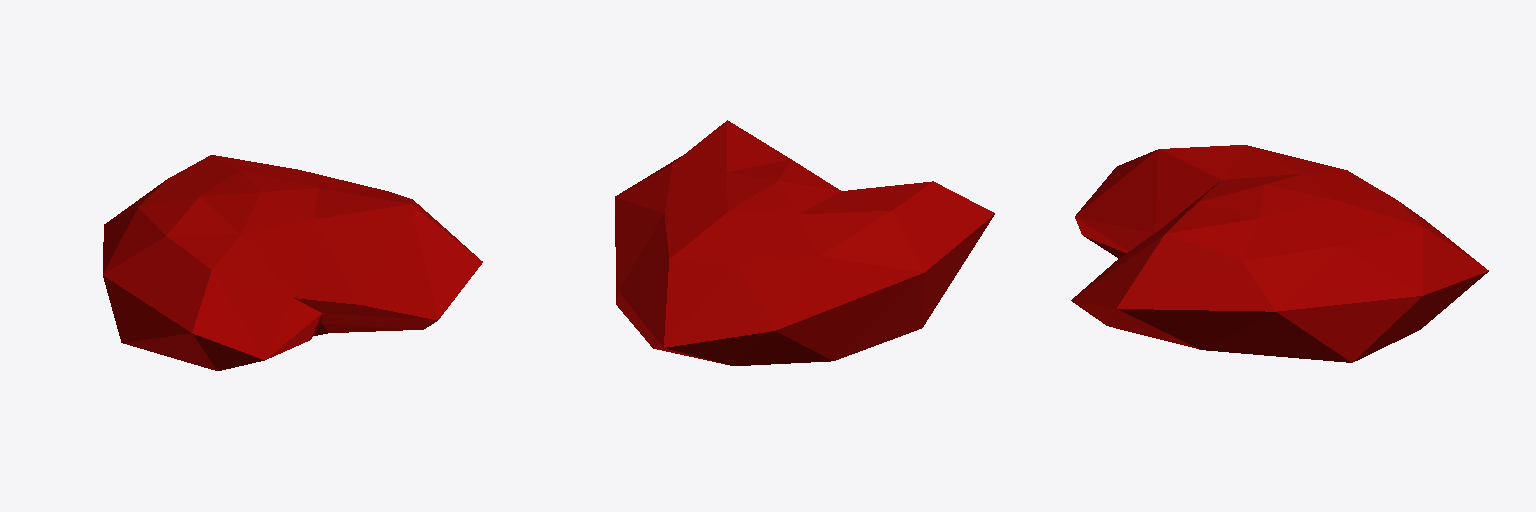
Rendered from heart.obj.
The picture shows the model from 3 angles: view 1: azimuth 30°, elevation 25°; view 2: azimuth 150°, elevation 25°; view 3: azimuth 270°, elevation 25°; orthographic projection.
Parts seen in each view (by area): view 1: Icosphere_Icosphere.001; view 2: Icosphere_Icosphere.001; view 3: Icosphere_Icosphere.001.
Boxes of the visible parts, x1=… form: Icosphere_Icosphere.001: x1=103, y1=155, x2=482, y2=370; Icosphere_Icosphere.001: x1=615, y1=120, x2=994, y2=365; Icosphere_Icosphere.001: x1=1071, y1=145, x2=1488, y2=362.
Size of the model in its own units: 1.88 by 0.8102 by 2.19.